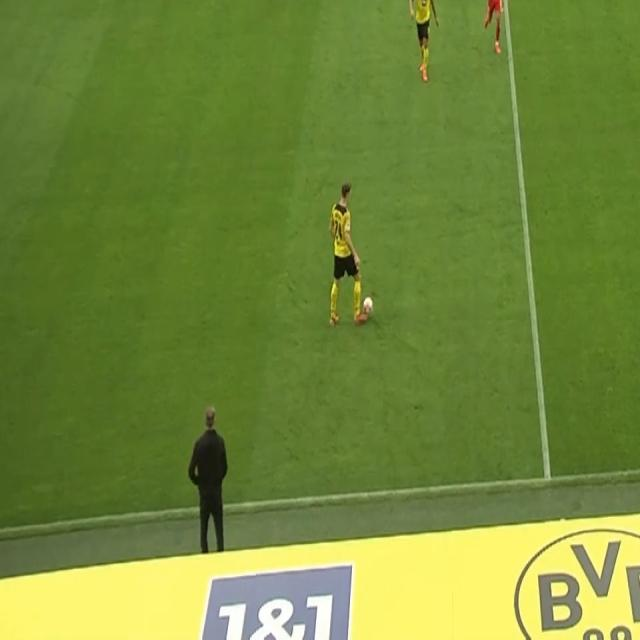ball: (362, 295, 374, 321)
